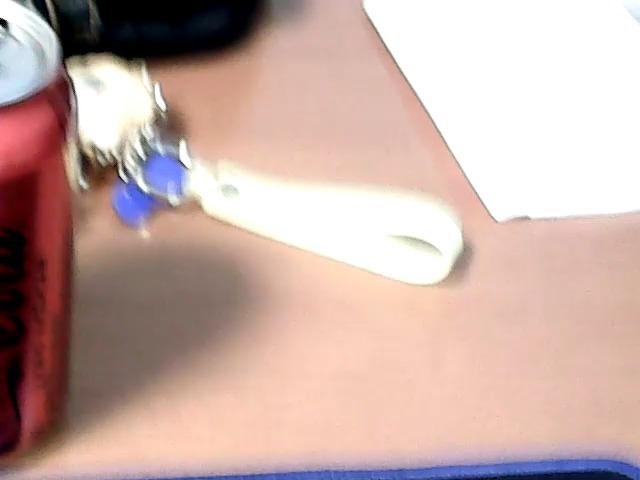coke: (0, 11, 80, 468)
